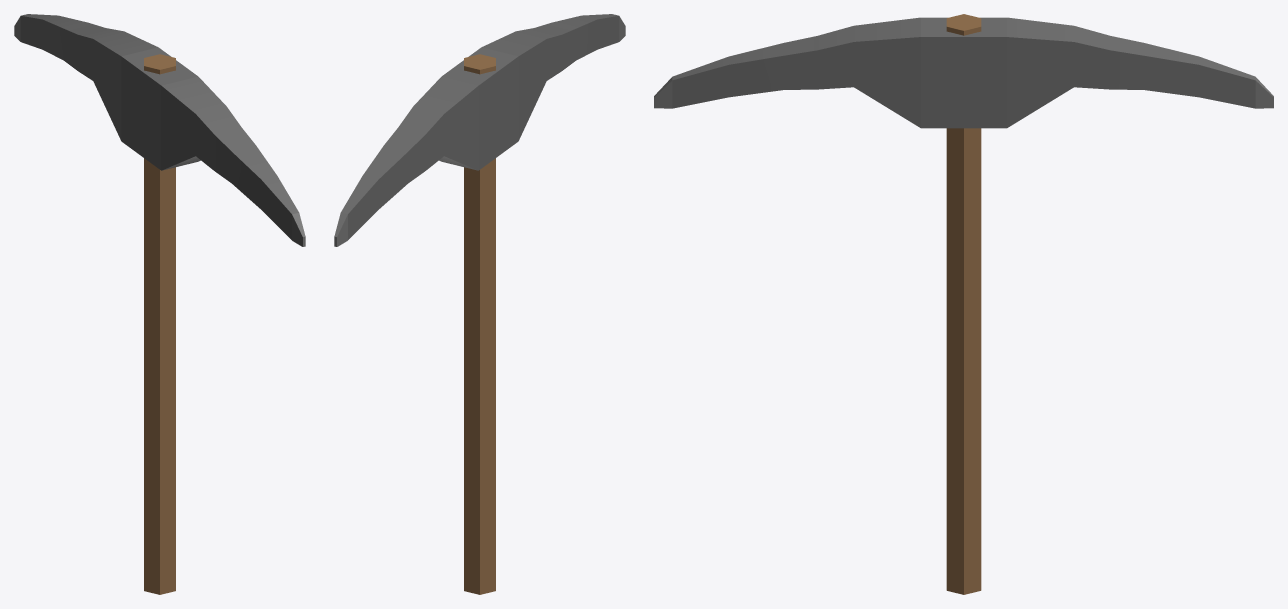
File: iron_pickaxe.fbx
3 renders of one model, left to right at view 1: azimuth 30°, elevation 25°; view 2: azimuth 150°, elevation 25°; view 3: azimuth 270°, elevation 25°, orthographic. The views are drawn at different scales.
Visible parts, largest first — view 1: Ax_01; view 2: Ax_01; view 3: Ax_01.
Boxes of the visible parts, left/top/right/bottom form: Ax_01: left=14, top=14, right=305, bottom=594; Ax_01: left=334, top=14, right=625, bottom=594; Ax_01: left=654, top=14, right=1273, bottom=594.
Bounding box in the file's own units: 4.23 × 57.19 × 56.97.
